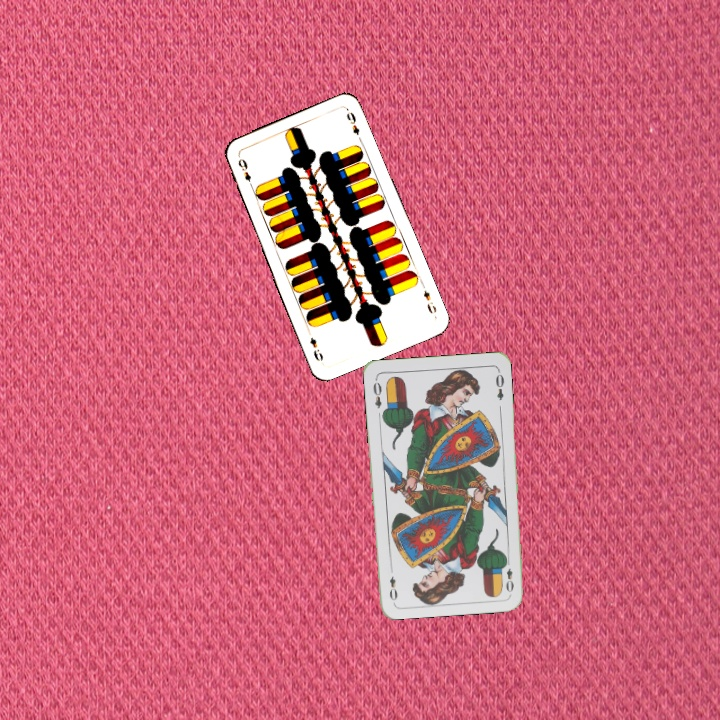E9: (234, 154, 255, 191), (418, 280, 439, 316)
EO: (500, 555, 516, 595), (369, 375, 384, 411)
